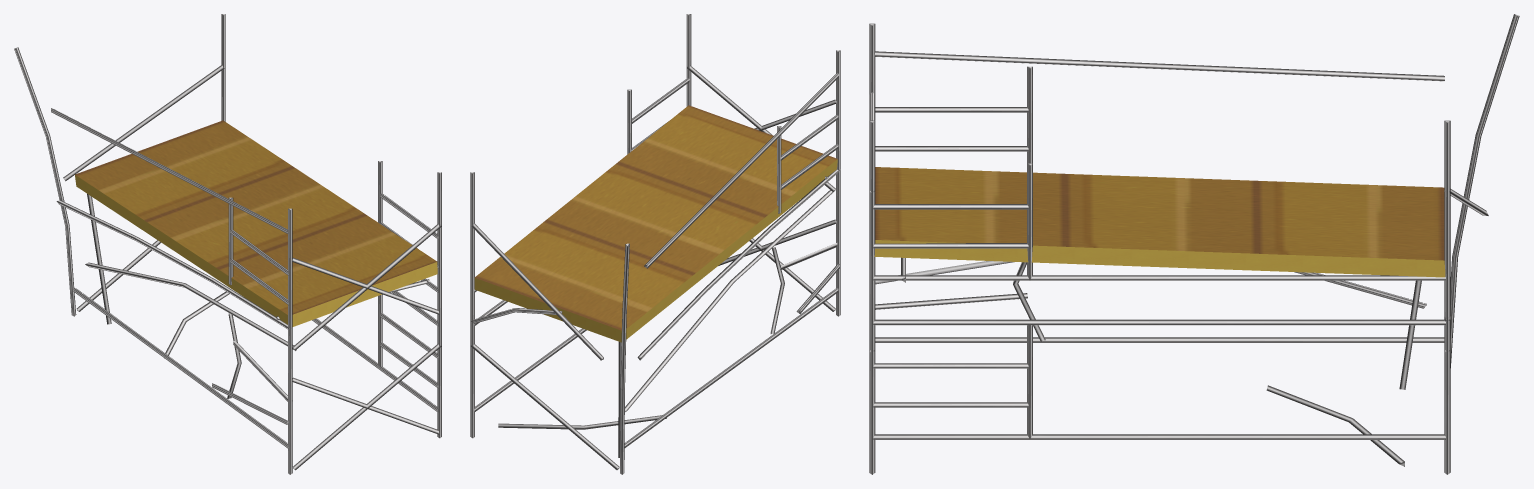
The model's file is Scaffolding.FBX.
3 renders of one model, left to right at view 1: azimuth 30°, elevation 25°; view 2: azimuth 150°, elevation 25°; view 3: azimuth 270°, elevation 25°, orthographic. The views are drawn at different scales.
Visible parts, largest first — view 1: ScaffoldingTop, ScaffPiece003; view 2: ScaffoldingTop, ScaffPiece003; view 3: ScaffoldingTop, ScaffPiece003.
Boxes of the visible parts, x1=… form: ScaffoldingTop: x1=75, y1=120, x2=437, y2=326; ScaffPiece003: x1=14, y1=14, x2=441, y2=474; ScaffoldingTop: x1=474, y1=105, x2=837, y2=342; ScaffPiece003: x1=470, y1=14, x2=840, y2=474; ScaffoldingTop: x1=874, y1=167, x2=1445, y2=277; ScaffPiece003: x1=869, y1=14, x2=1519, y2=474.
Bounding box in the file's own units: 159 × 218 × 365.
3 materials, 3 textured.
